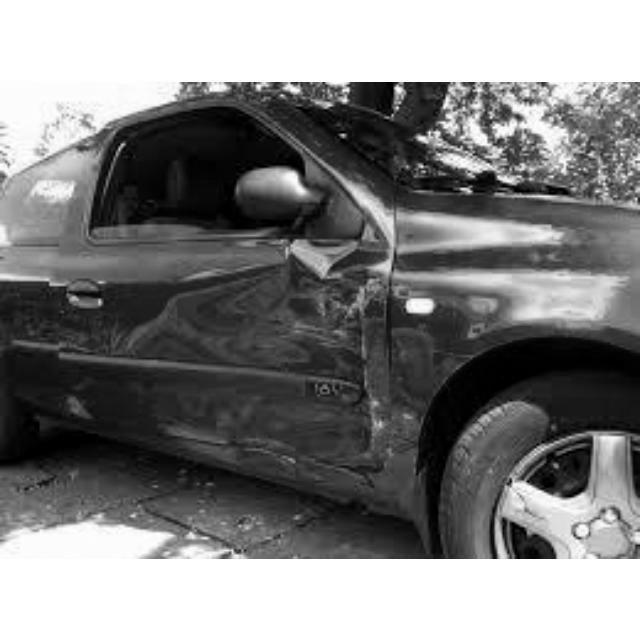doorouter-dent: (158, 244, 382, 440)
